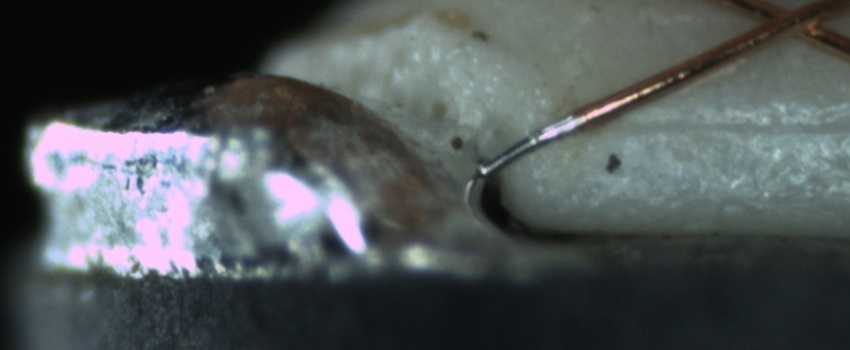CL: (734, 1, 842, 44)
DL: (615, 90, 845, 157)
TS: (480, 114, 580, 175)
